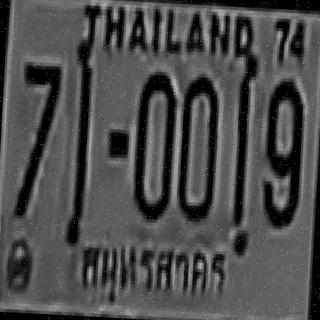N00: (132, 68, 177, 220), (176, 73, 219, 219)
N07: (15, 62, 60, 211), (16, 62, 60, 195), (17, 62, 60, 167), (18, 61, 60, 158)
N09: (260, 78, 304, 227)
P58: (70, 228, 231, 319)
